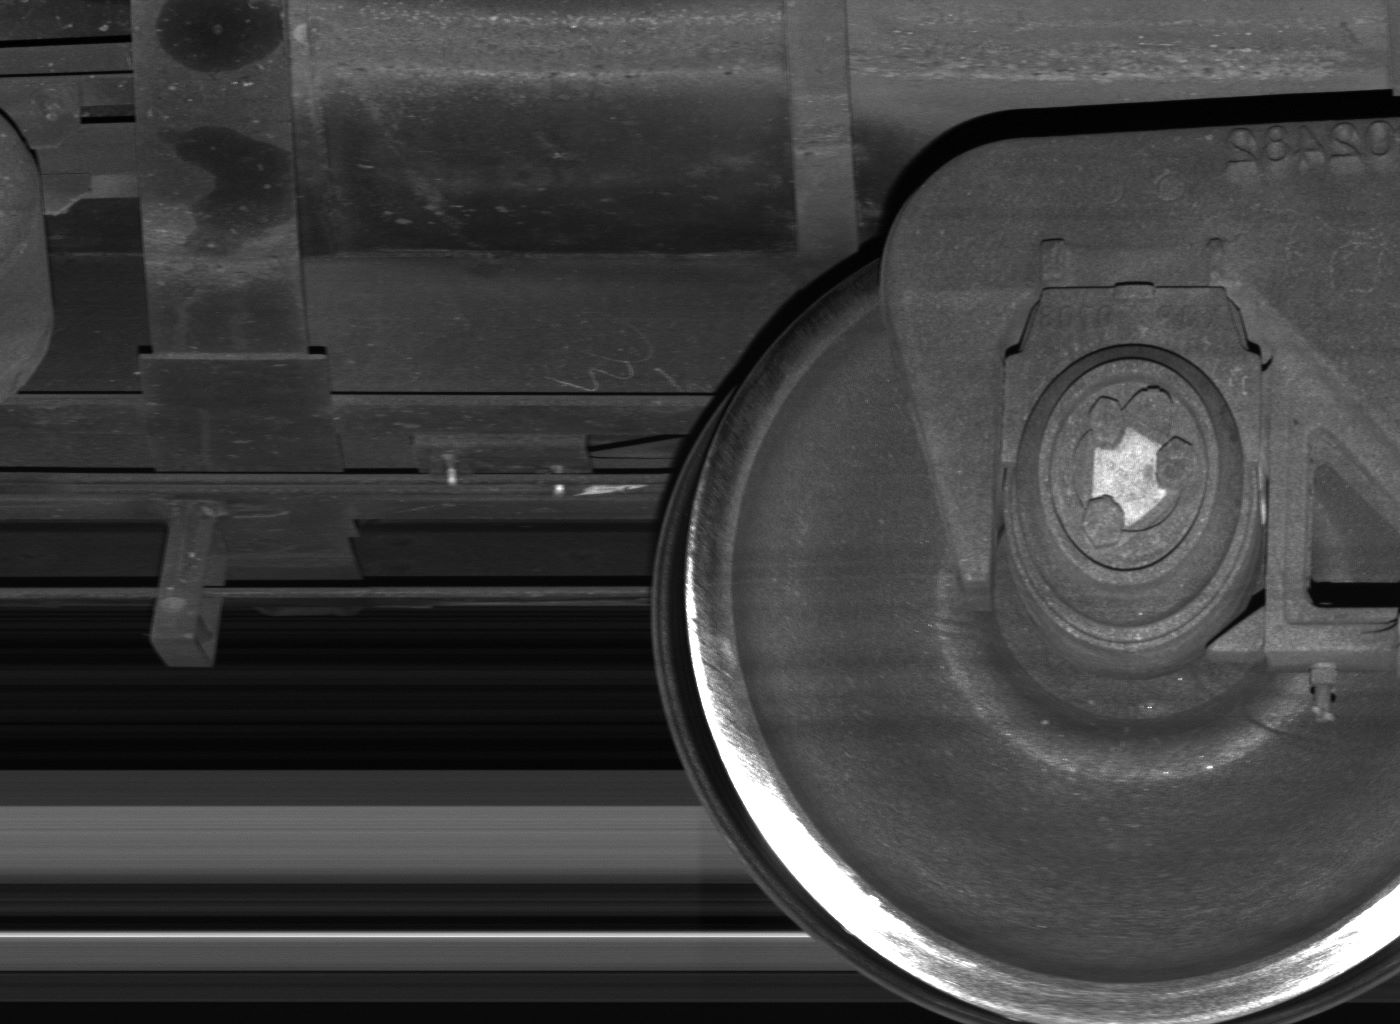normal: (150, 519, 227, 666)
